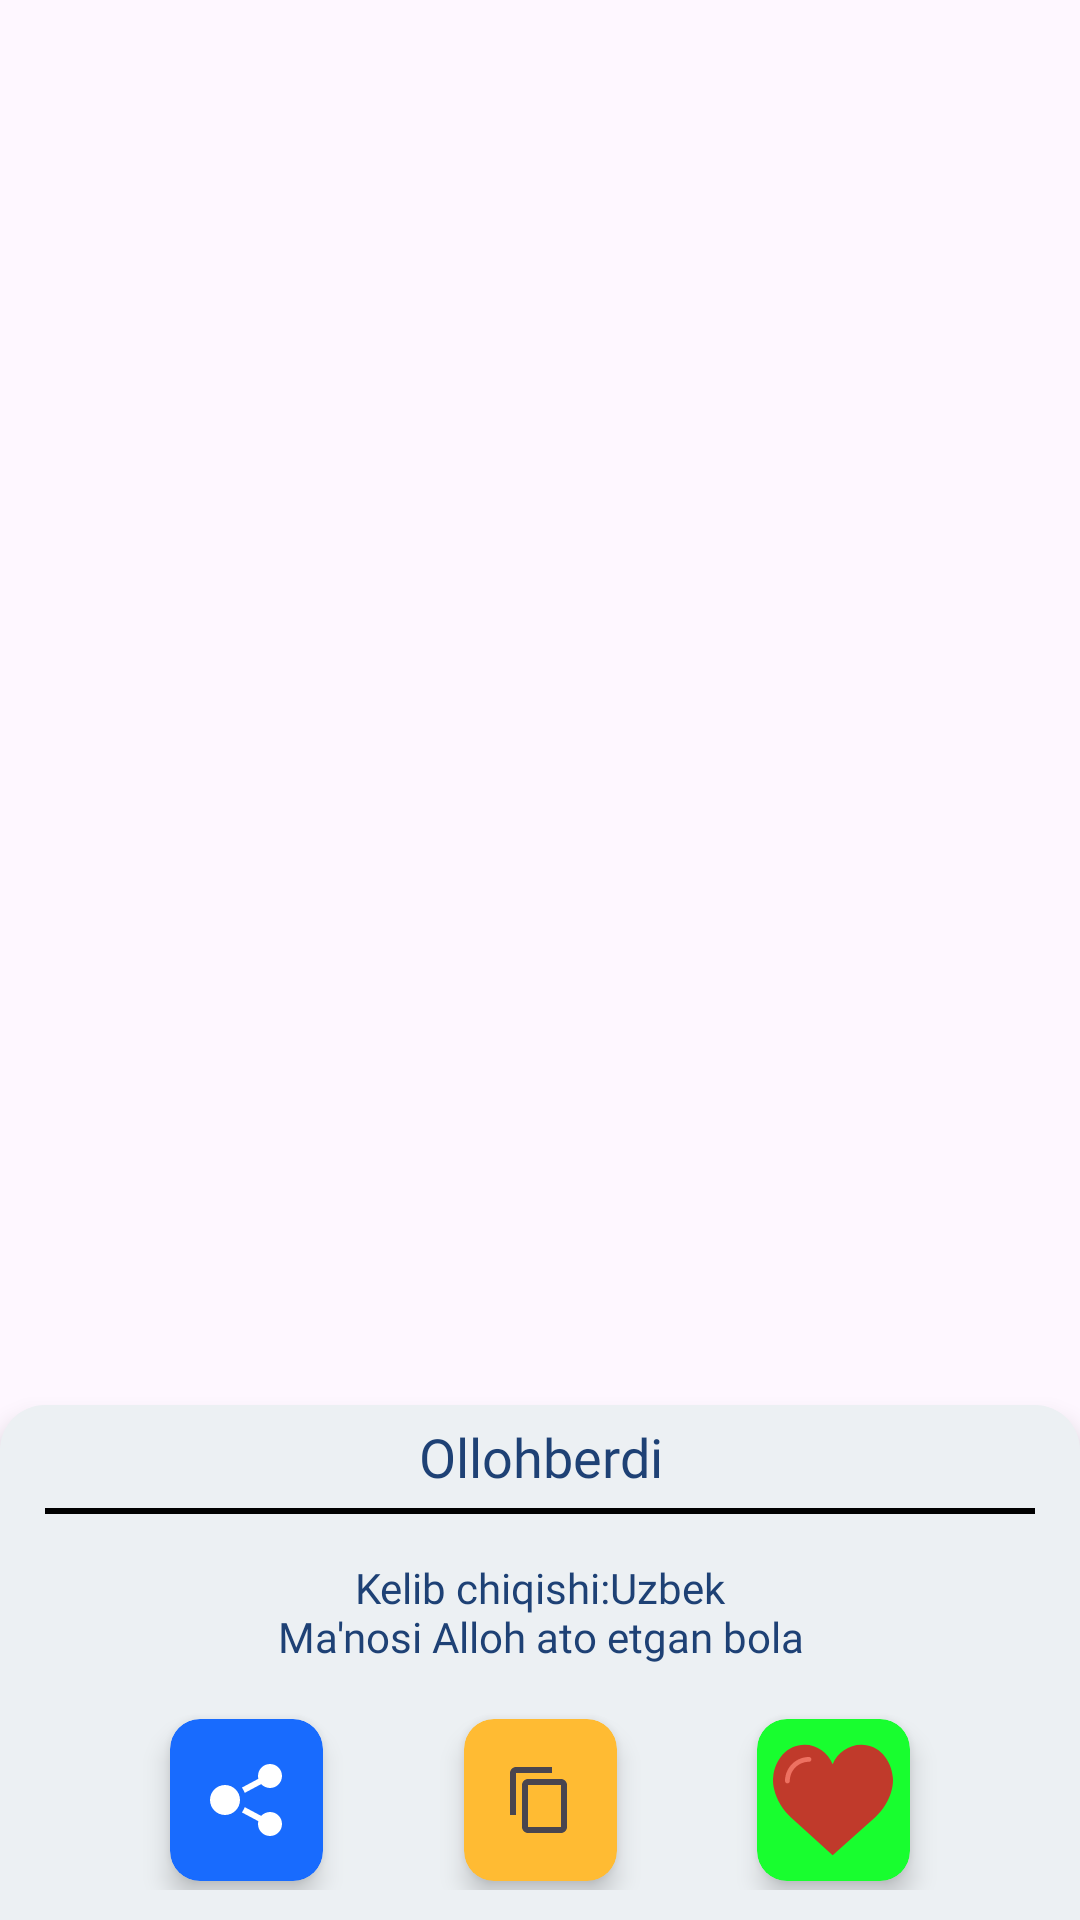

Where to tap for icons on this 1080 x 1920 app screen, as [x,y]:
like: [833,1799]
share: [246,1800]
